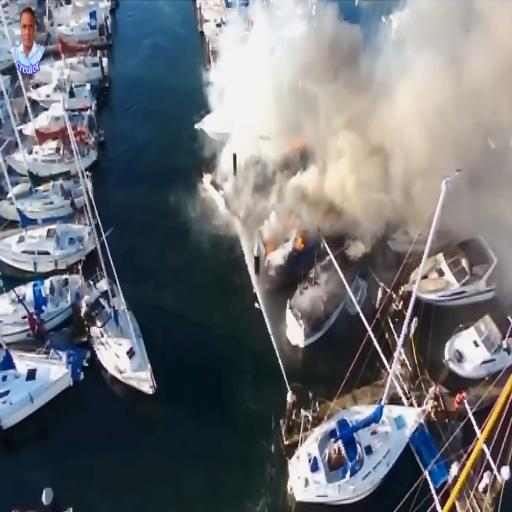smoke: (231, 0, 380, 233), (384, 16, 502, 160)
